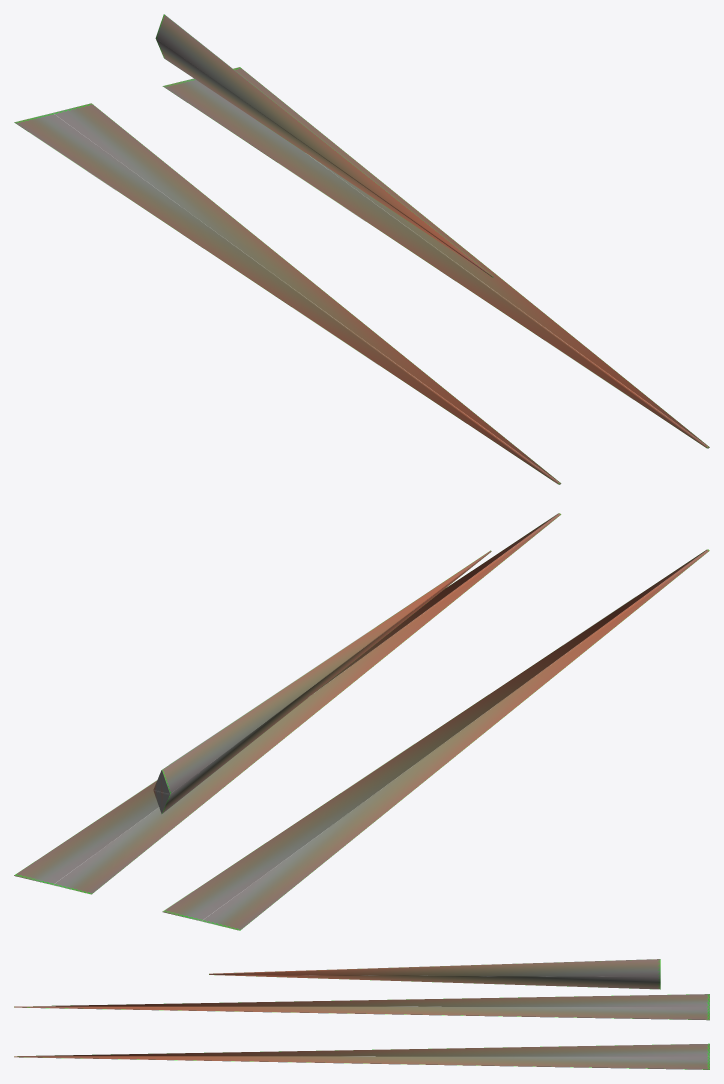
Rendered from booster.obj.
3 views of the same model, one above another, from view 1: azimuth 30°, elevation 25°; view 2: azimuth 150°, elevation 25°; view 3: azimuth 270°, elevation 25° (orthographic). The views are drawn at different scales.
Visible parts, largest first — view 1: Box003, Box002, Box001; view 2: Box003, Box002, Box001; view 3: Box002, Box003, Box001.
Boxes of the visible parts, x1,y1,x2,y2 form: Box003: (14, 103, 561, 484); Box002: (162, 67, 709, 448); Box001: (155, 14, 493, 277); Box003: (162, 549, 709, 930); Box002: (14, 513, 561, 894); Box001: (153, 550, 491, 813); Box002: (14, 1043, 709, 1069); Box003: (14, 994, 709, 1020); Box001: (209, 959, 660, 989).
Size of the model in its own units: 1.67 by 0.7614 by 6.51.
Materials: 1 (1 with a texture image).
